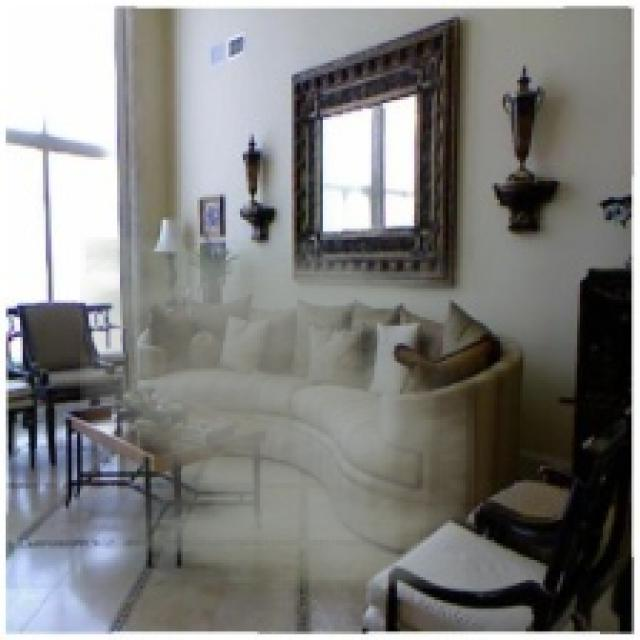smoke: (80, 237, 474, 589)
